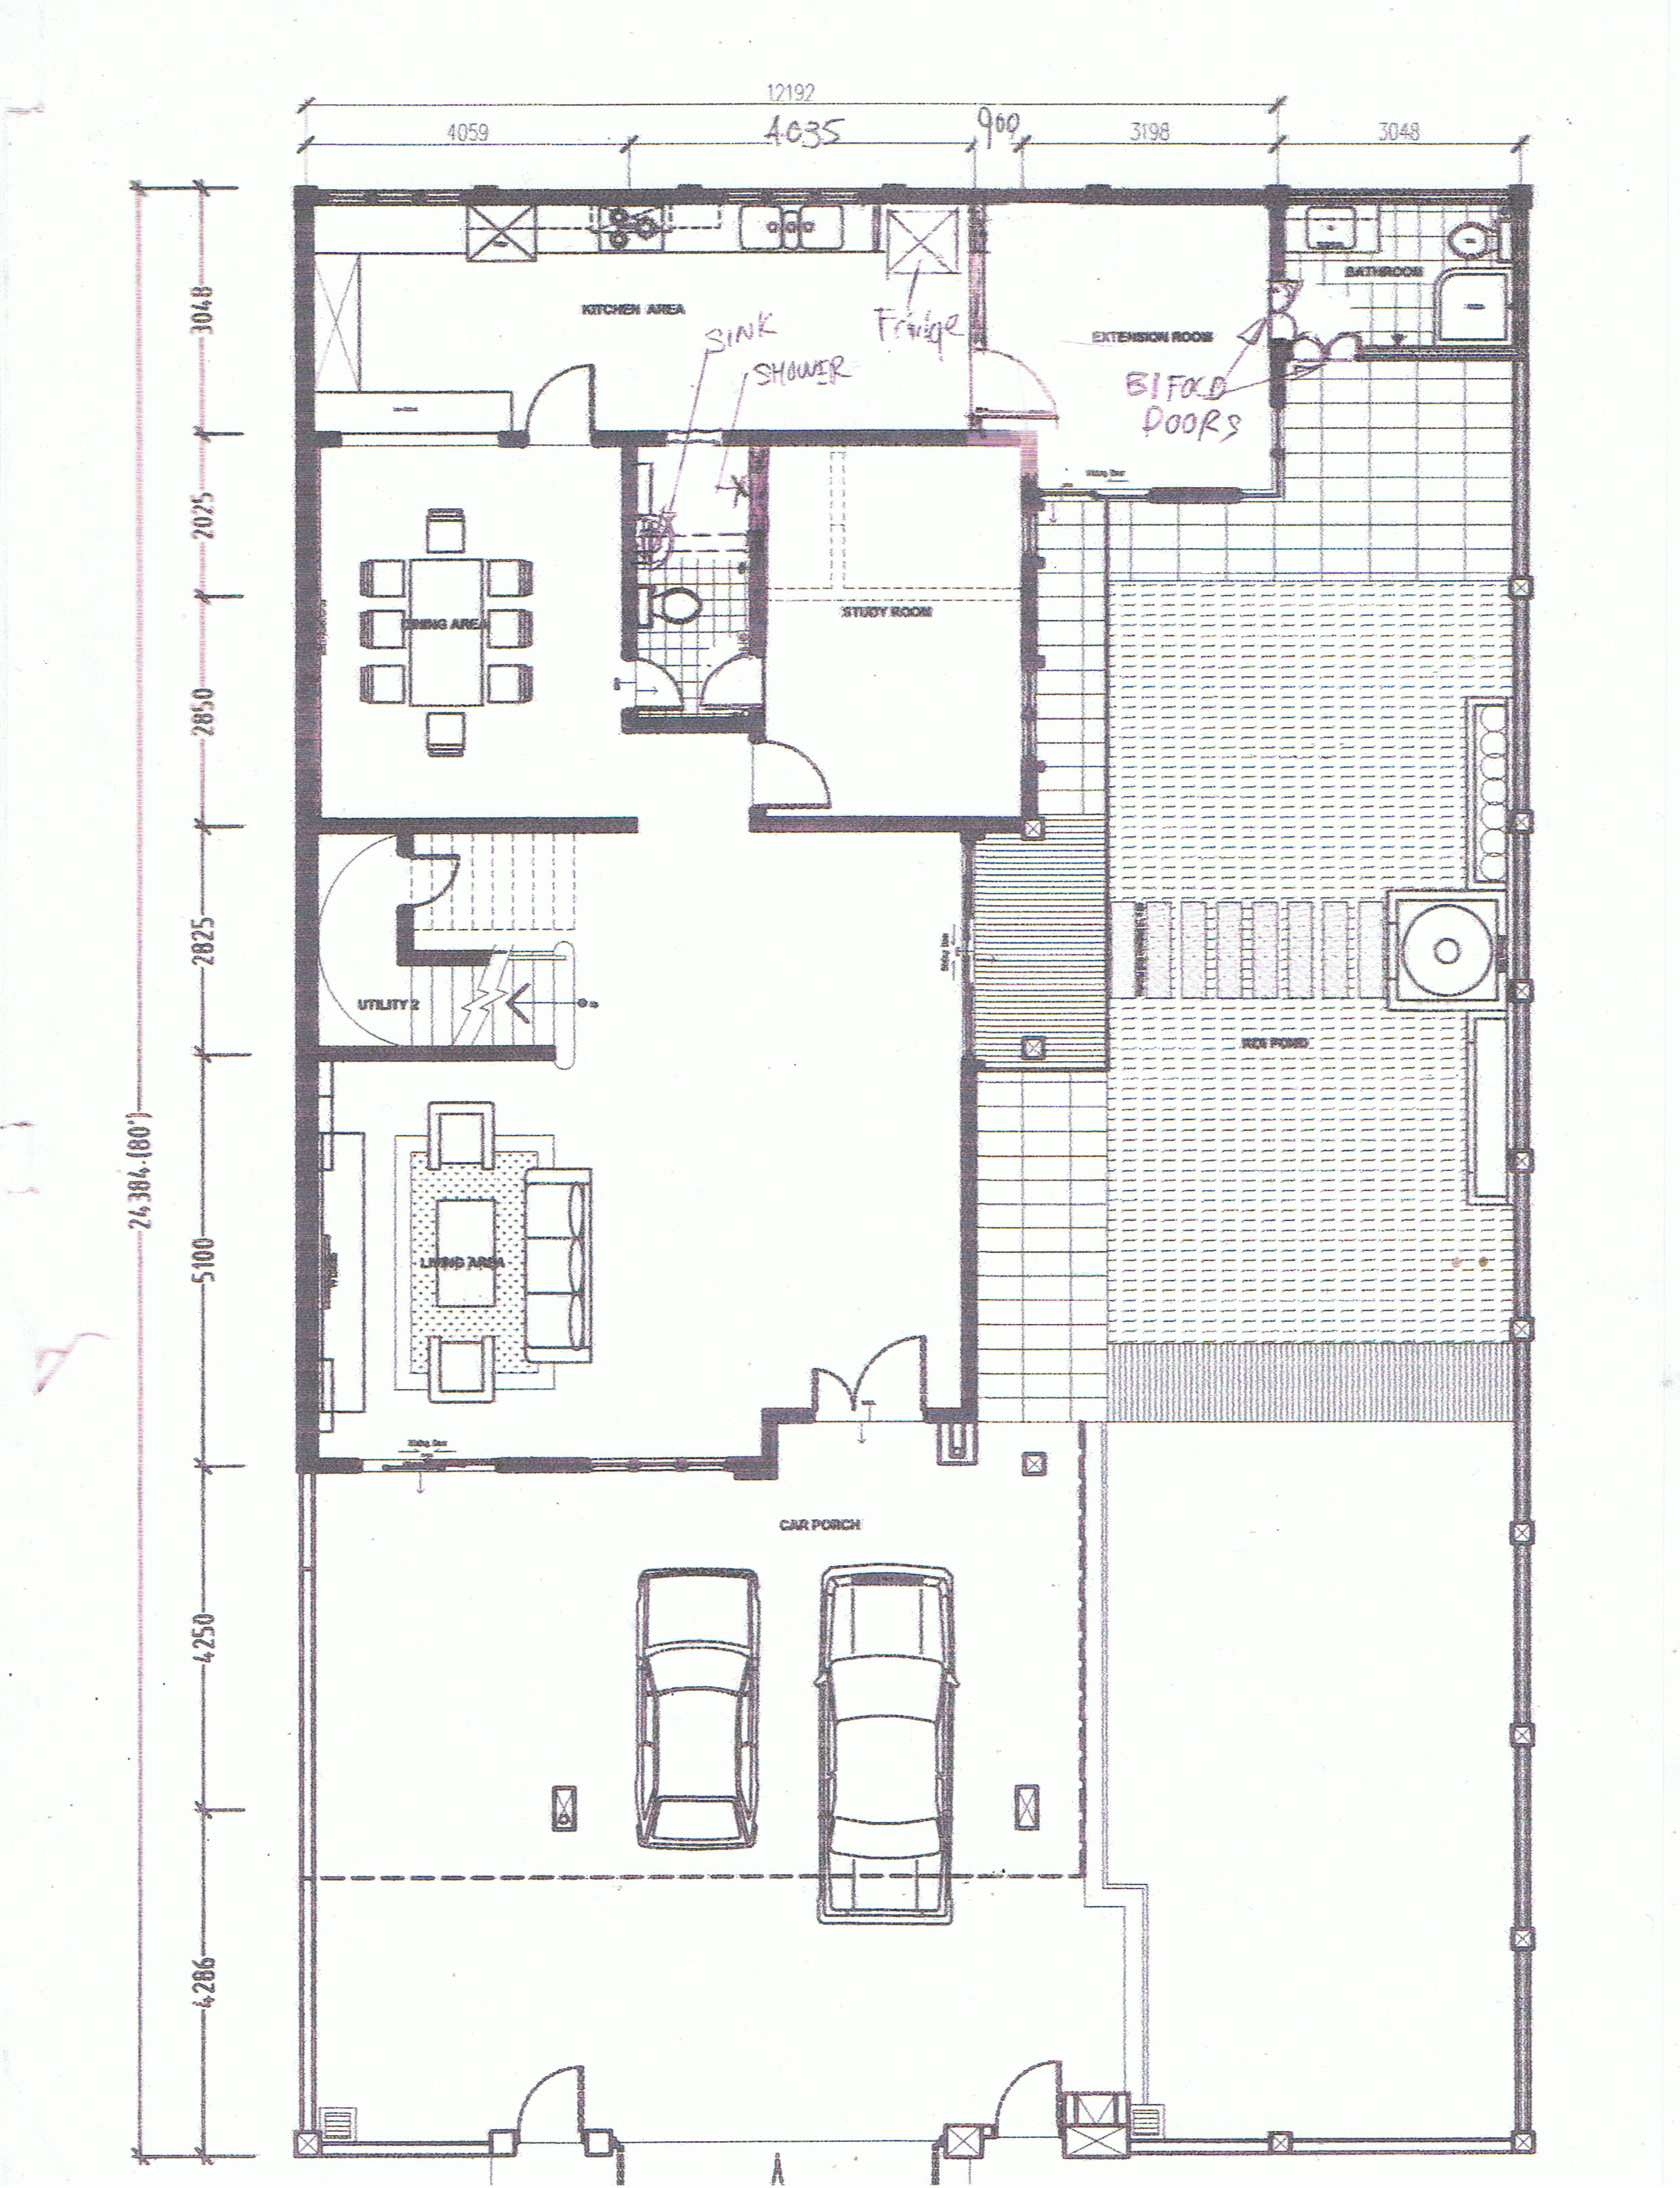wall: (466, 175, 978, 217), (1008, 423, 1045, 842), (312, 805, 648, 850), (739, 805, 1064, 843), (976, 175, 1285, 215), (951, 1064, 983, 1427), (295, 1066, 323, 1470), (720, 422, 1006, 457), (309, 1039, 574, 1076), (614, 432, 651, 653), (298, 438, 316, 829), (1288, 185, 1528, 214), (956, 815, 983, 1050), (296, 836, 323, 1066), (743, 432, 769, 656), (296, 182, 319, 439), (618, 704, 773, 741), (1505, 182, 1539, 342), (1133, 476, 1256, 513), (1015, 558, 1052, 667), (1262, 175, 1295, 295), (1362, 344, 1532, 365), (1258, 358, 1302, 423), (506, 1449, 589, 1477), (298, 1449, 364, 1479), (722, 1449, 784, 1479), (759, 1405, 821, 1433), (761, 1405, 782, 1479)
